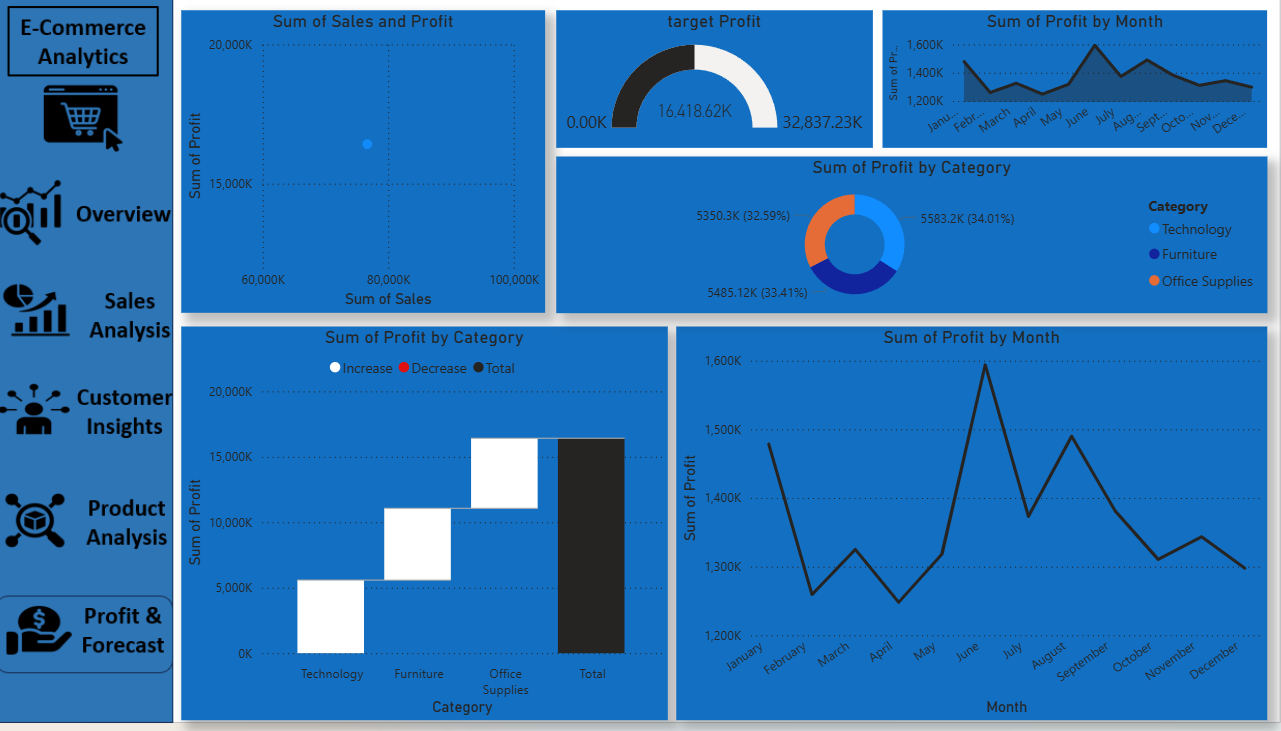

This screenshot's page, from the dashboard's own definition file:
{"tool":"powerbi","page":{"name":"Profit & Forecast","canvas":[1280,720],"ordinal":4},"visuals":[{"type":"actionButton","box":[13.7,259.3,175.6,76.8],"z":0},{"type":"actionButton","box":[13.7,359.5,175.6,71.4],"z":1000},{"type":"actionButton","box":[13.7,467.9,175.6,72.7],"z":2000},{"type":"actionButton","box":[13.7,570.8,175.6,75.5],"z":3000},{"type":"actionButton","box":[13.7,164.7,175.6,78.2],"z":4000},{"type":"scatterChart","title":"Sum of Sales and Profit","fields":{"X":["Sum(Orders_Data.Sales)"],"Y":["Sum(Orders_Data.Profit)"]},"box":[208.7,15.7,341.4,292],"z":5000},{"type":"waterfallChart","fields":{"Category":["Orders_Data.Category"],"Y":["Sum(Orders_Data.Profit)"]},"box":[208.7,320.9,459.7,345],"z":6000},{"type":"lineChart","fields":{"Category":["Orders_Data.Order Date.Variation.Date Hierarchy.Month"],"Y":["Sum(Orders_Data.Profit)"]},"box":[676.8,320.9,556.2,345],"z":7000},{"type":"gauge","title":"target Profit","fields":{"Y":["Sum(Orders_Data.Profit)"]},"box":[561,15.7,305.2,132.7],"z":8000},{"type":"areaChart","fields":{"Category":["Orders_Data.Order Date.Variation.Date Hierarchy.Month"],"Y":["Sum(Orders_Data.Profit)"]},"box":[875.9,15.7,357.1,132.7],"z":9000},{"type":"donutChart","fields":{"Category":["Orders_Data.Category"],"Y":["Sum(Orders_Data.Profit)"]},"box":[561,156.8,672,150.8],"z":10000}]}

Visuals, with their boxes in screenshot pixels (x1, y1, x2, y2), scaled from the page's 1280x720 canvas onto the 1281x731 screenshot:
actionButton: (14,263,189,341)
actionButton: (14,365,189,437)
actionButton: (14,475,189,549)
actionButton: (14,580,189,656)
actionButton: (14,167,189,247)
"Sum of Sales and Profit" scatterChart: (209,16,551,312)
waterfallChart - Orders_Data.Category x Sum(Orders_Data.Profit): (209,326,669,676)
lineChart - Orders_Data.Order Date.Variation.Date Hierarchy.Month x Sum(Orders_Data.Profit): (677,326,1234,676)
"target Profit" gauge: (561,16,867,151)
areaChart - Orders_Data.Order Date.Variation.Date Hierarchy.Month x Sum(Orders_Data.Profit): (877,16,1234,151)
donutChart - Orders_Data.Category x Sum(Orders_Data.Profit): (561,159,1234,312)
